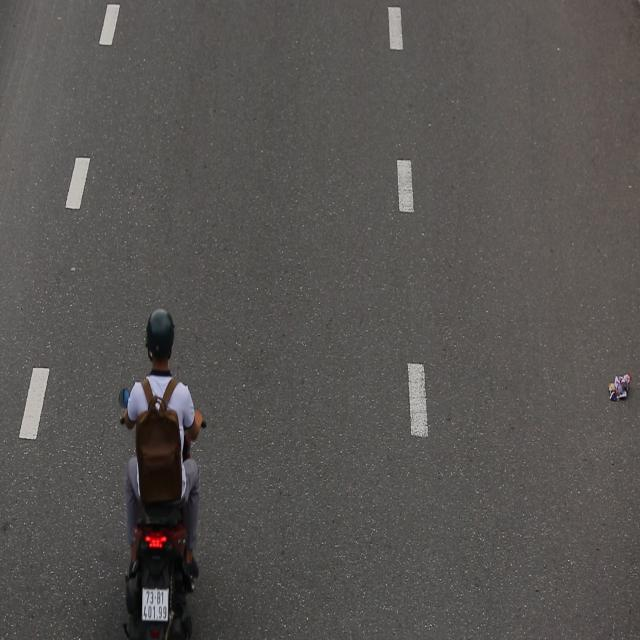motorbike: (114, 299, 216, 640)
